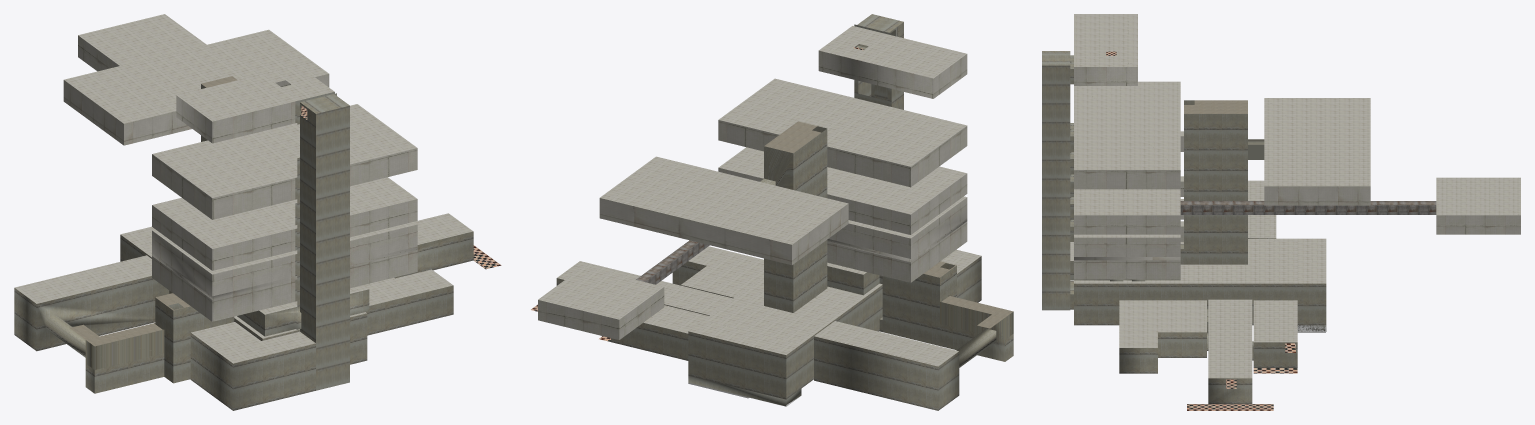
File: maybe.glb
3 renders of one model, left to right at view 1: azimuth 30°, elevation 25°; view 2: azimuth 150°, elevation 25°; view 3: azimuth 270°, elevation 25°, orthographic. The views are drawn at different scales.
Visible parts, largest first — view 1: Techo_NivelViviendas, Paredes_Salones, Paredes_DistribuidorInferior, Paredes_Ascensor, Techo_NivelDistribuidorAlmacen, Paredes_Escaleras, Techo_Escaleras, Puertas_Ascensor; view 2: Techo_NivelViviendas, Paredes_Salones, Paredes_DistribuidorInferior, Techo_NivelDistribuidorAlmacen, Paredes_Escaleras, Techo_Escaleras, Paredes_Ascensor, Tunel_SalonLejos, Puertas_Ascensor; view 3: Techo_NivelViviendas, Techo_NivelDistribuidorAlmacen, Paredes_Salones, Paredes_DistribuidorInferior, Paredes_Escaleras, Paredes_Ascensor, Tunel_SalonLejos, Suelo_NivelDistribuidorAlmacen, Techo_Escaleras, Puertas_Ascensor.
Part boxes in pixels (x1,y1,x2,y2): Techo_NivelViviendas: (64,14,417,274); Paredes_Salones: (63,35,417,321); Paredes_DistribuidorInferior: (14,231,473,410); Paredes_Ascensor: (300,94,349,390); Techo_NivelDistribuidorAlmacen: (15,213,472,363); Paredes_Escaleras: (85,84,234,393); Techo_Escaleras: (70,76,237,346); Puertas_Ascensor: (295,92,336,306); Techo_NivelViviendas: (538,26,966,319); Paredes_Salones: (538,50,967,339); Paredes_DistribuidorInferior: (556,256,996,410); Techo_NivelDistribuidorAlmacen: (557,246,981,366); Paredes_Escaleras: (760,126,1013,361); Techo_Escaleras: (764,121,1013,328); Paredes_Ascensor: (857,14,903,109); Tunel_SalonLejos: (636,240,709,284); Puertas_Ascensor: (854,24,891,106); Techo_NivelViviendas: (1074,14,1520,237); Techo_NivelDistribuidorAlmacen: (1070,180,1326,378); Paredes_Salones: (1074,67,1520,279); Paredes_DistribuidorInferior: (1070,238,1326,403); Paredes_Escaleras: (1180,100,1264,264); Paredes_Ascensor: (1042,51,1070,310); Tunel_SalonLejos: (1180,201,1436,214); Suelo_NivelDistribuidorAlmacen: (1187,343,1297,410); Techo_Escaleras: (1184,100,1247,113); Puertas_Ascensor: (1070,55,1073,241).
Size of the model in its own units: 62.75 by 39.18 by 67.41.
Materials: 5 (5 with a texture image).
